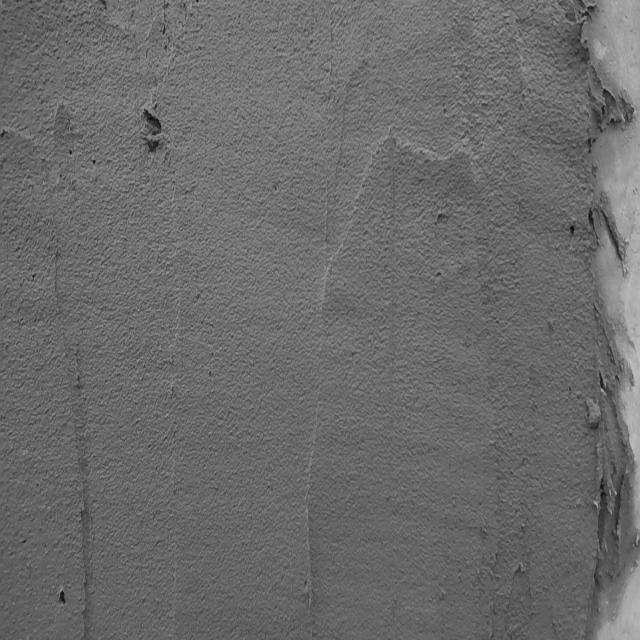trowels marks: (72, 363, 95, 640), (299, 387, 322, 640)
